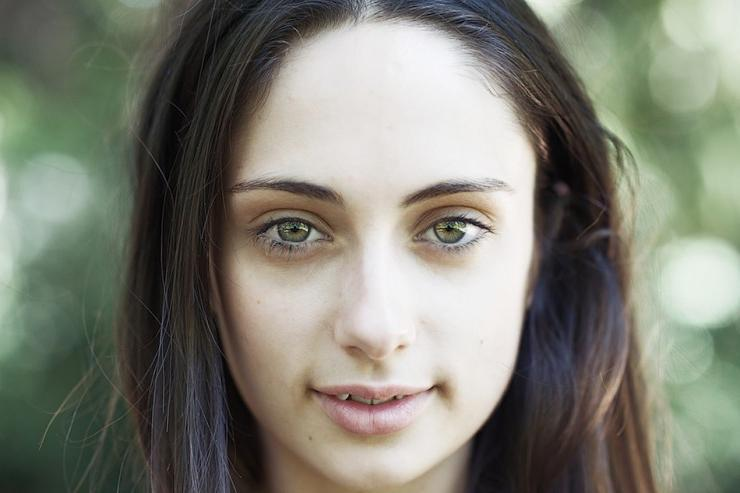Sober: (240, 66, 520, 470)
